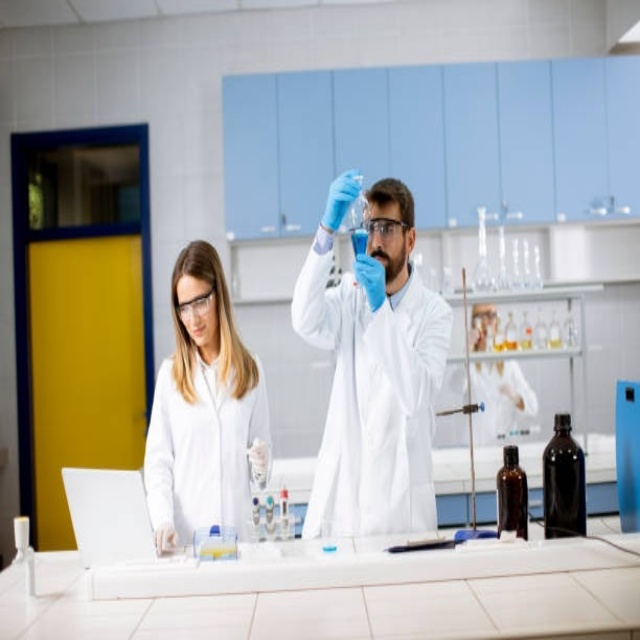Gafas: (176, 286, 216, 319), (364, 218, 409, 238), (474, 312, 499, 325)
Guantes: (320, 169, 363, 238), (354, 254, 386, 314), (148, 516, 185, 566), (247, 437, 270, 482)
Sin_mascara: (372, 253, 387, 263), (191, 325, 206, 335)
